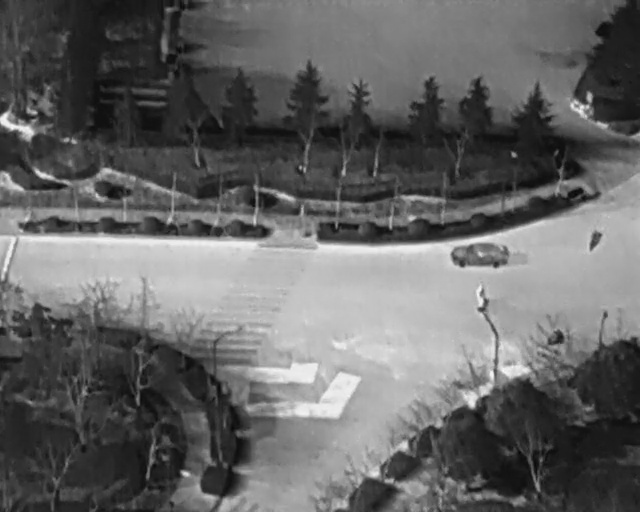Car: (450, 243, 512, 269)
